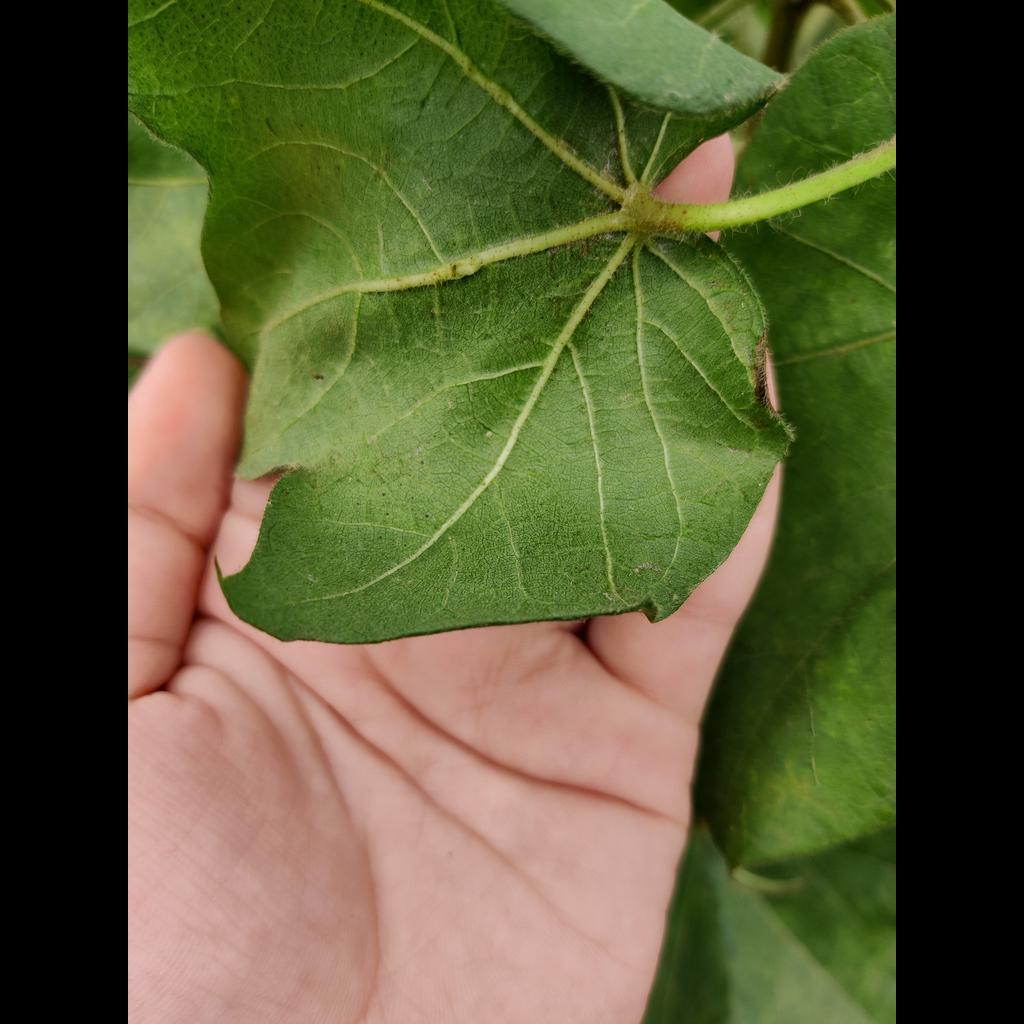nymph: (485, 431, 493, 438)
